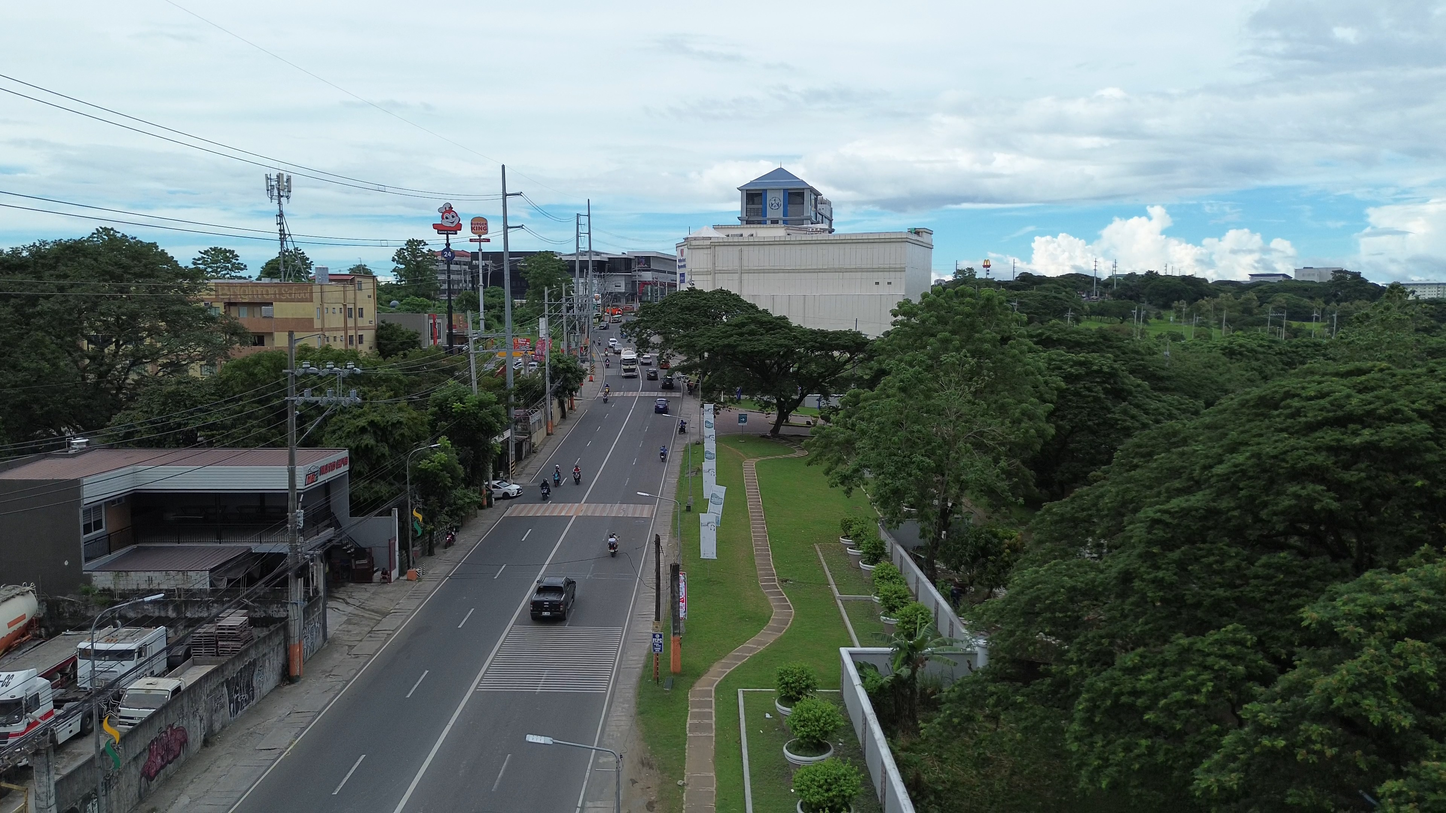car: (531, 576, 576, 620), (488, 480, 522, 498), (654, 397, 668, 413), (660, 375, 674, 390), (639, 353, 652, 366), (645, 368, 658, 380), (658, 356, 671, 368), (609, 337, 618, 348), (597, 322, 608, 330)
motorcycle: (607, 534, 618, 556), (540, 481, 551, 501), (572, 468, 581, 484), (552, 471, 560, 487), (679, 419, 687, 433), (660, 446, 667, 461)
truck: (116, 659, 215, 729)
vehicle: (76, 627, 167, 688), (0, 669, 56, 746), (0, 585, 38, 654), (620, 349, 638, 378), (607, 533, 618, 556), (540, 481, 551, 501), (639, 353, 653, 366), (658, 355, 671, 368), (572, 466, 581, 484), (608, 338, 618, 349), (610, 314, 622, 323)
